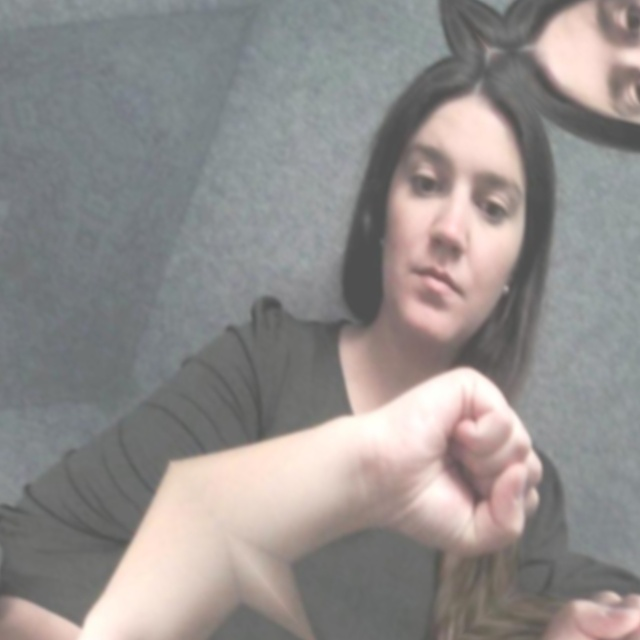Rock: (0, 557, 287, 640)
